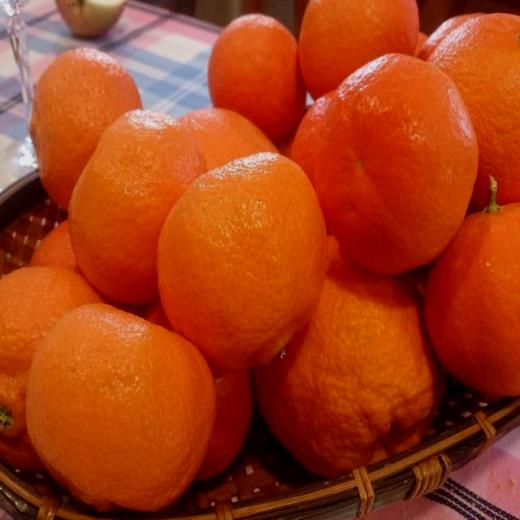Grape: (251, 228, 434, 476), (301, 54, 489, 274), (29, 302, 214, 510), (148, 144, 310, 360), (69, 109, 200, 301), (420, 194, 518, 392), (207, 0, 333, 142), (34, 46, 142, 208), (428, 10, 520, 199), (0, 263, 94, 415), (300, 0, 421, 89), (186, 105, 284, 163), (32, 210, 78, 274)
